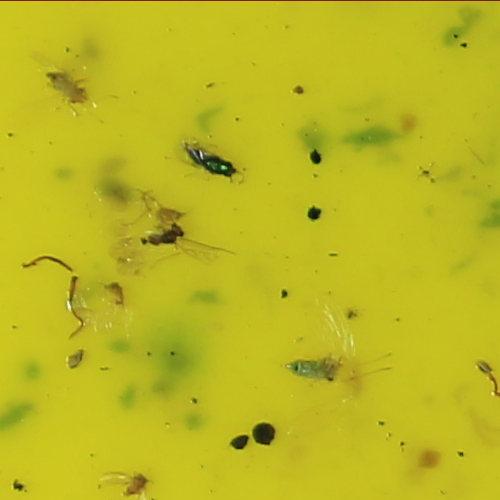psylla: (280, 355, 344, 387), (47, 74, 92, 108), (122, 471, 148, 499)
wasp: (184, 145, 237, 175)
